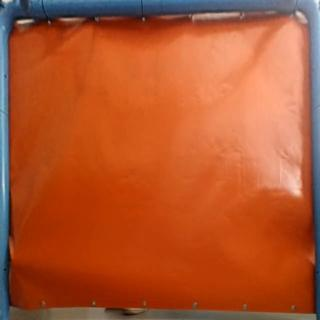Hit-hRxx: (9, 248, 22, 267)
